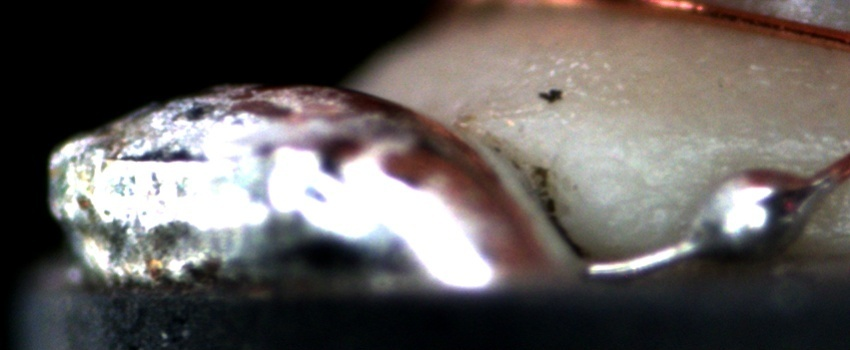DL: (685, 113, 849, 163)
TB: (686, 162, 832, 263)
